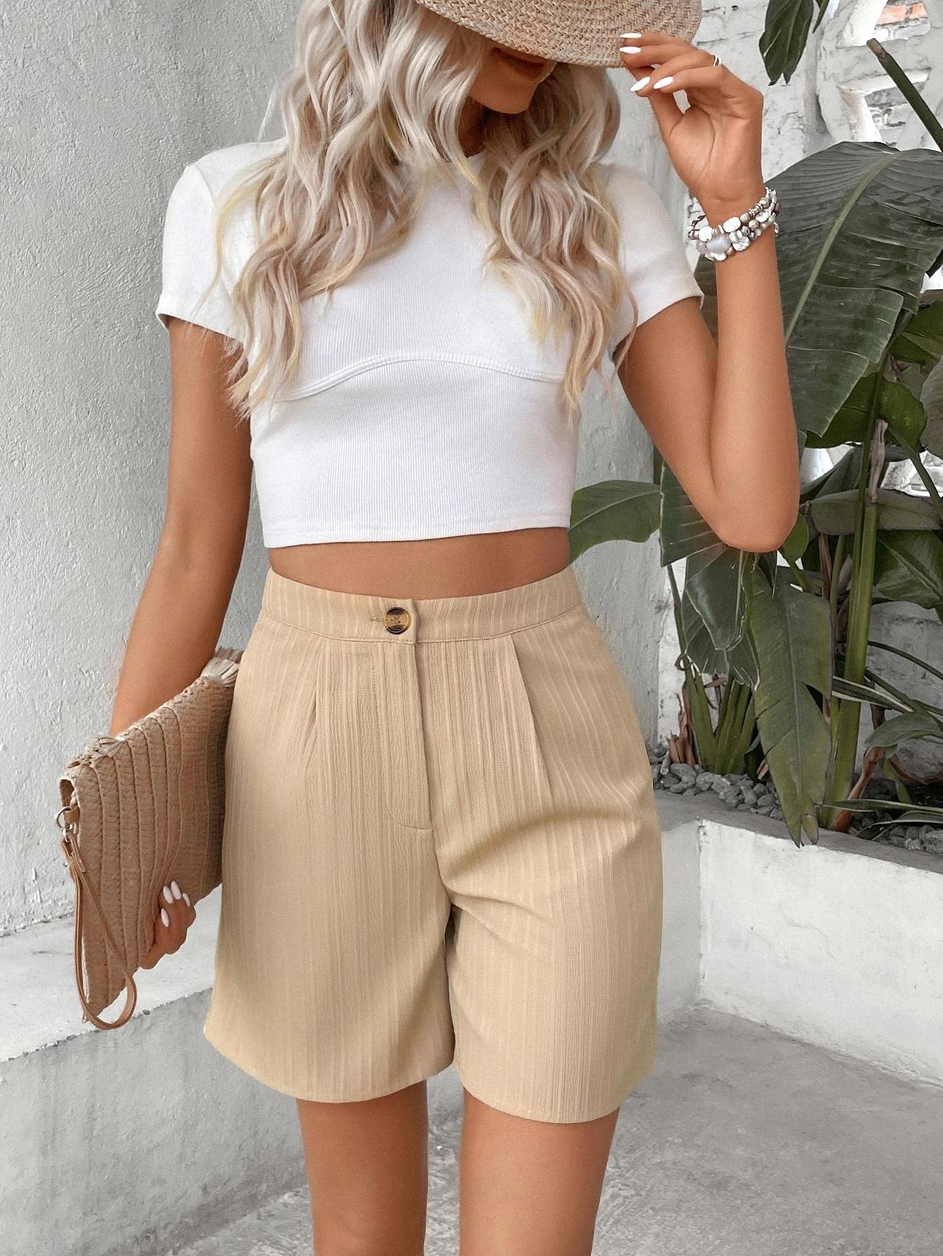Shorts: (195, 560, 672, 1133)
short sleeve shirt: (150, 132, 712, 552)
